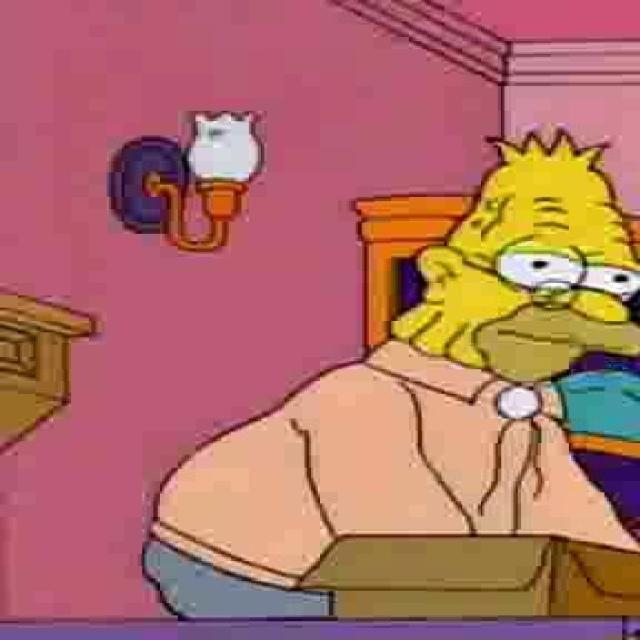Abraham Grampa Simpson: (389, 124, 640, 384)
